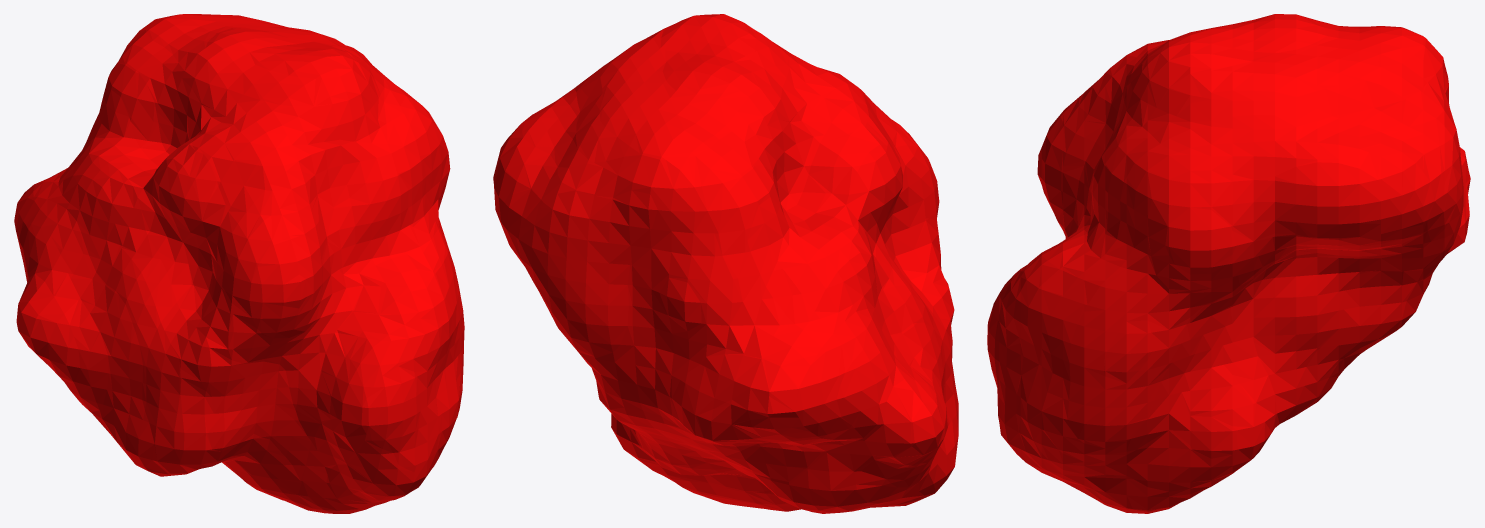
The model's file is cdd_coarse.dae.
The picture shows the model from 3 angles, left to right: view 1: azimuth 30°, elevation 25°; view 2: azimuth 150°, elevation 25°; view 3: azimuth 270°, elevation 25°; orthographic projection. The views are drawn at different scales.
Parts seen in each view (by area): view 1: cdd; view 2: cdd; view 3: cdd.
Part boxes in pixels (<box>): cdd: <box>14,14,464,513</box>; cdd: <box>493,14,958,513</box>; cdd: <box>987,14,1470,513</box>.
Bounding box in the file's own units: 50.04 × 55.35 × 52.07.
